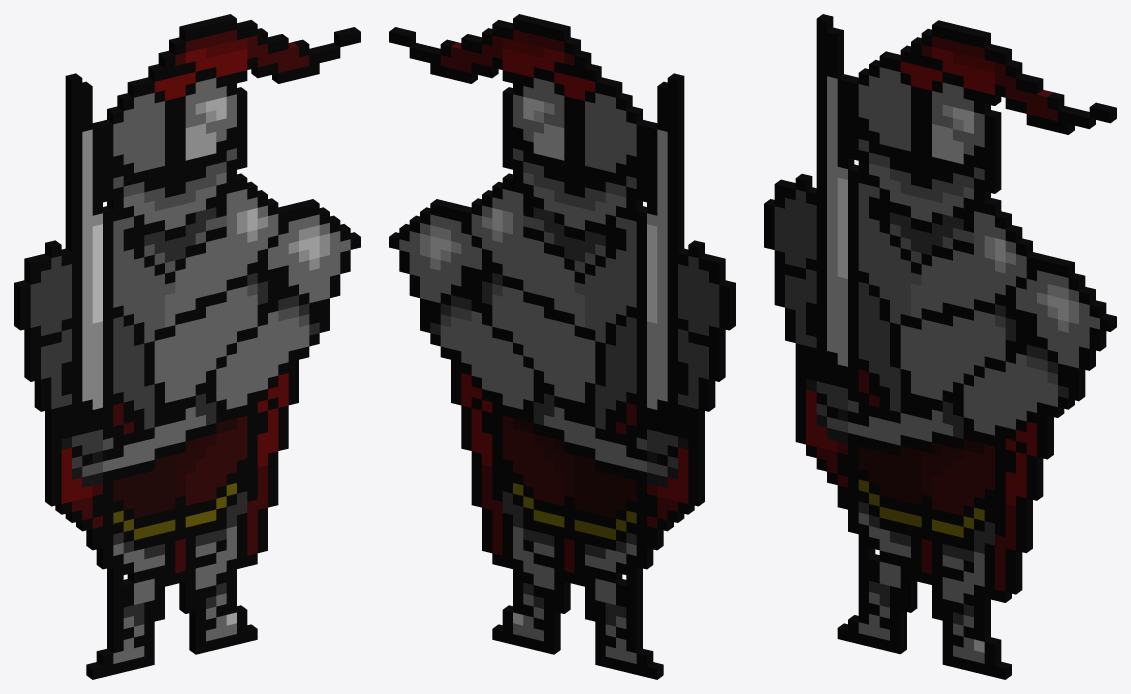
Rendered from Knight.fbx.
The picture shows the model from 3 angles, left to right: view 1: azimuth 30°, elevation 25°; view 2: azimuth 150°, elevation 25°; view 3: azimuth 330°, elevation 25°; orthographic projection.
Parts seen in each view (by area): view 1: Curve; view 2: Curve; view 3: Curve.
Part boxes in pixels (x1,y1,x2,y2): Curve: [14, 14, 360, 679]; Curve: [389, 14, 735, 679]; Curve: [764, 14, 1116, 679].
Bounding box in the file's own units: 27.94 × 49.1 × 0.9.
